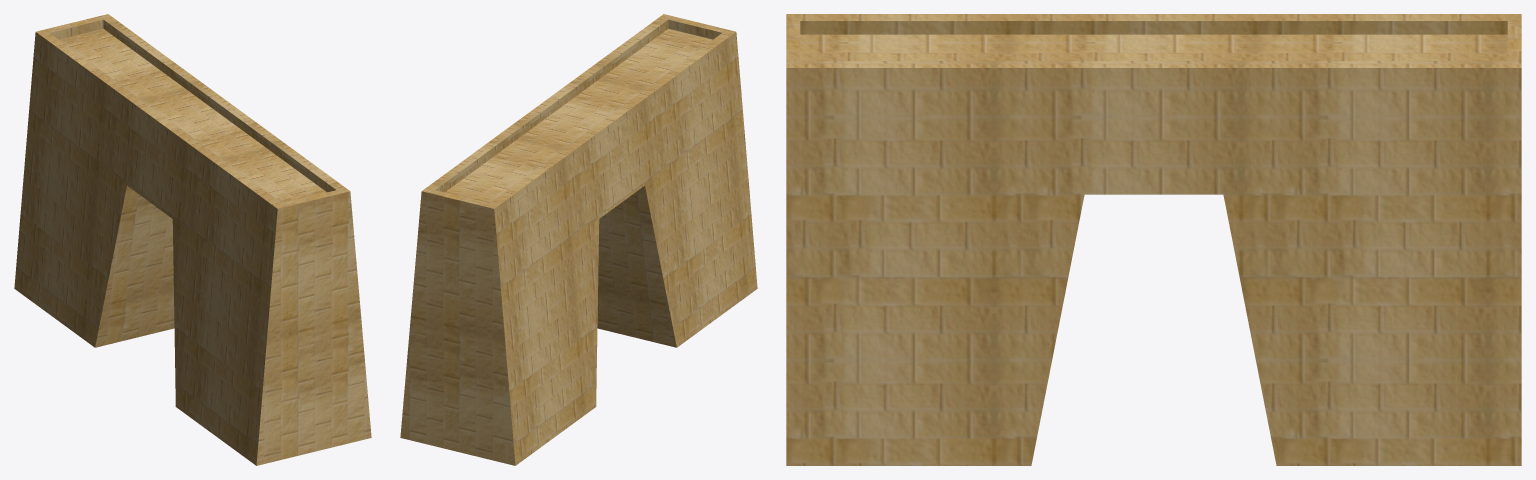
Rendered from EgyptianGate.obj.
The picture shows the model from 3 angles, left to right: view 1: azimuth 30°, elevation 25°; view 2: azimuth 150°, elevation 25°; view 3: azimuth 270°, elevation 25°; orthographic projection. The views are drawn at different scales.
Visible parts, largest first — view 1: Cube.001; view 2: Cube.001; view 3: Cube.001.
Boxes of the visible parts, box(x1,y1,x2,y2) form: Cube.001: box(14, 14, 371, 465); Cube.001: box(400, 14, 757, 465); Cube.001: box(786, 14, 1521, 465).
Bounding box in the file's own units: 0.2802 × 0.5858 × 1.02.
Materials: 1 (1 with a texture image).
